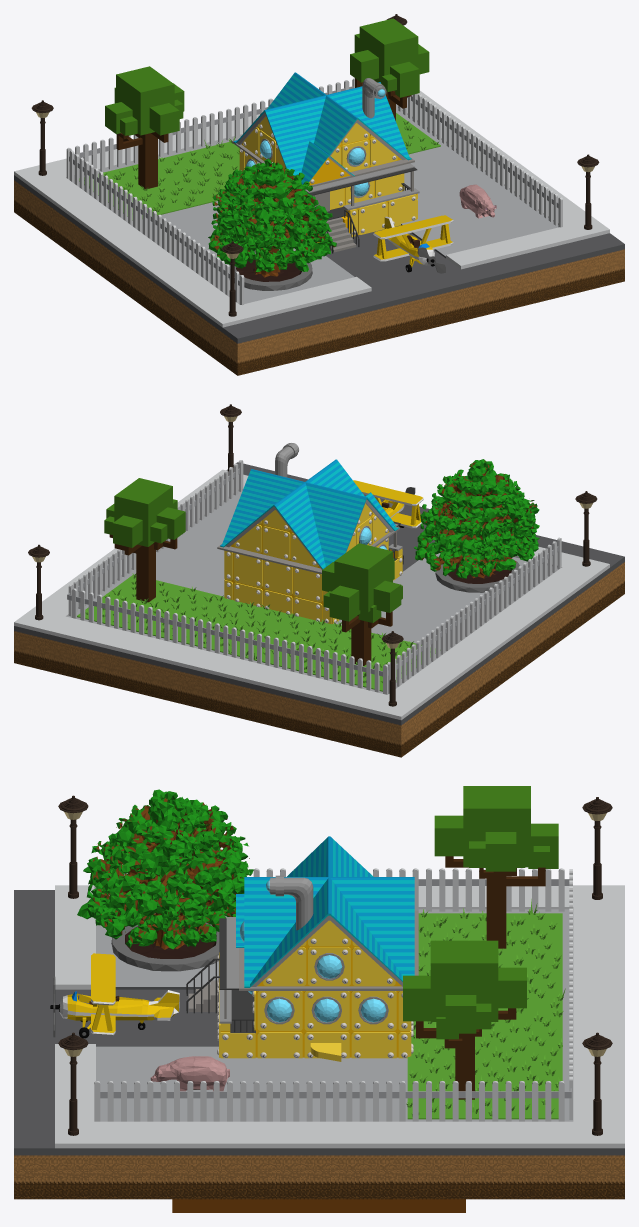
3 renders of one model, top to bottom at view 1: azimuth 30°, elevation 25°; view 2: azimuth 150°, elevation 25°; view 3: azimuth 270°, elevation 25°, orthographic. The views are drawn at different scales.
Visible parts, largest first — view 1: Cube.004, Cube.1366, OBJRANDOM_CEIBA, VEHICLES_AIRPLANE, ANIMAL_HIPOPOTAMO; view 2: Cube.004, Cube.1366, OBJRANDOM_CEIBA, VEHICLES_AIRPLANE; view 3: Cube.004, Cube.1366, OBJRANDOM_CEIBA, VEHICLES_AIRPLANE, UNDERGROUND_ART_PIECE_VAN_GOGH, ANIMAL_HIPOPOTAMO.
Boxes of the visible parts, box(x1,y1,x2,y2) form: Cube.004: box(14, 14, 624, 375); Cube.1366: box(232, 72, 419, 253); OBJRANDOM_CEIBA: box(208, 158, 336, 290); VEHICLES_AIRPLANE: box(373, 215, 453, 273); ANIMAL_HIPOPOTAMO: box(459, 184, 496, 218); Cube.004: box(14, 404, 624, 757); Cube.1366: box(217, 443, 403, 624); OBJRANDOM_CEIBA: box(414, 459, 539, 592); VEHICLES_AIRPLANE: box(353, 480, 423, 528); Cube.004: box(14, 786, 624, 1199); Cube.1366: box(186, 836, 418, 1061); OBJRANDOM_CEIBA: box(77, 789, 253, 971); VEHICLES_AIRPLANE: box(50, 953, 179, 1038); UNDERGROUND_ART_PIECE_VAN_GOGH: box(172, 1199, 465, 1212); ANIMAL_HIPOPOTAMO: box(150, 1056, 229, 1091).
Bounding box in the file's own units: 4000 × 1813 × 4000.
Materials: 38 (4 with a texture image).
